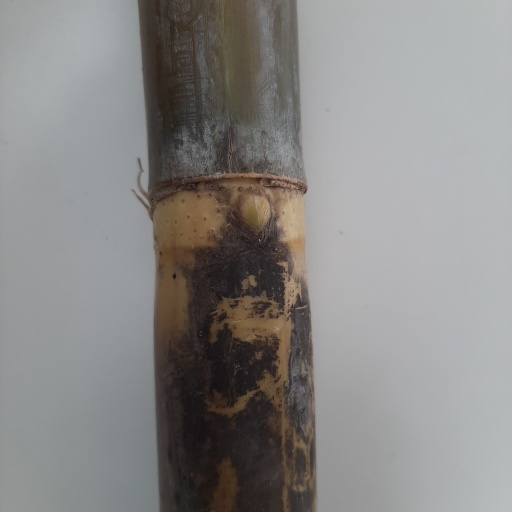Bud: (237, 190, 273, 236)
